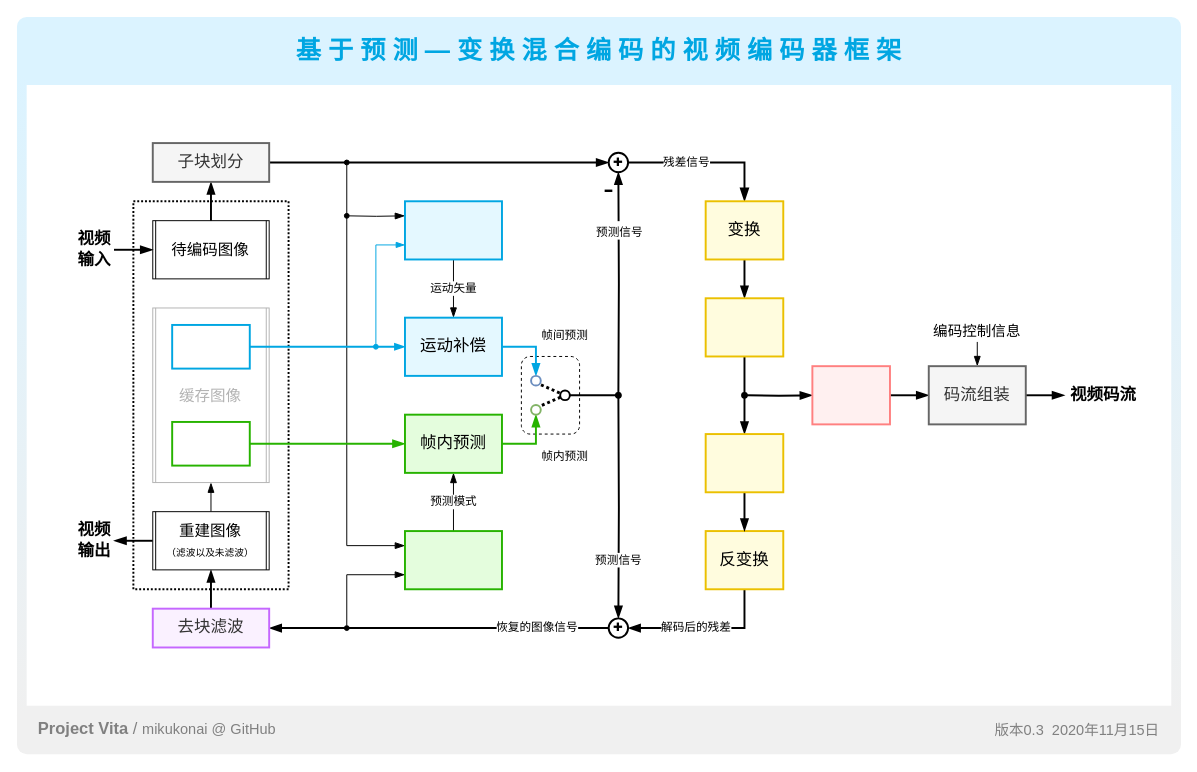
The diagram is 1197 pixels wide and 772 high, and some of its shapes have lost their labels. Each missing label, with the centre of its shape:
前后参考帧: [210,346]
反量化: [744,463]
帧内预测 模式选择: [453,560]
熵编码: [850,395]
相邻重建块: [210,443]
运动估计: [453,230]
量化: [744,327]
